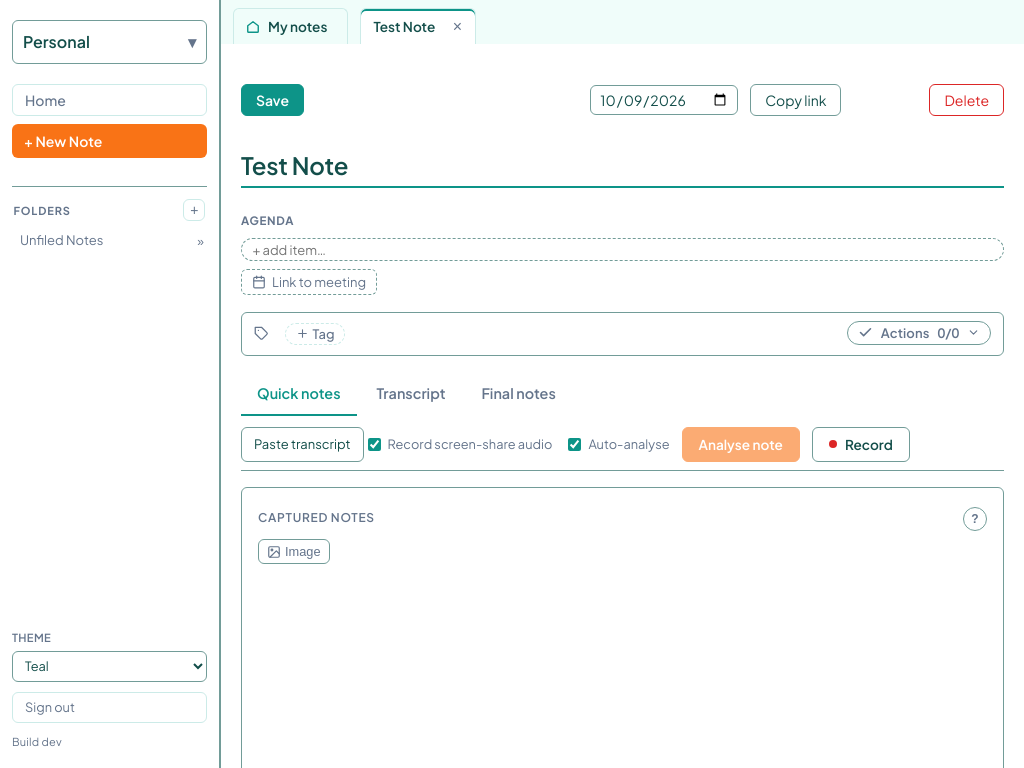
Routing (21-A) › in-app Back from a cold deep-link falls back to home
Click the button with test id "cancel-button". click: (272, 100)
box: left=241, top=84, right=304, bottom=116
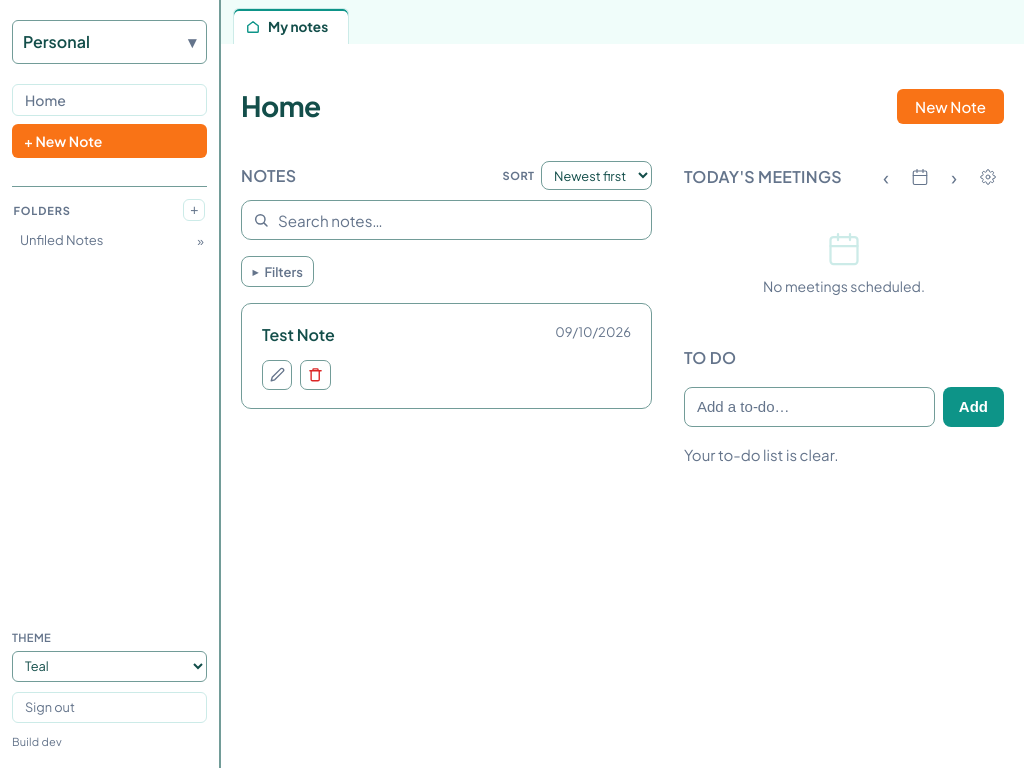
Now the heading "Home" is shown, box left=241, top=84, right=321, bottom=129
